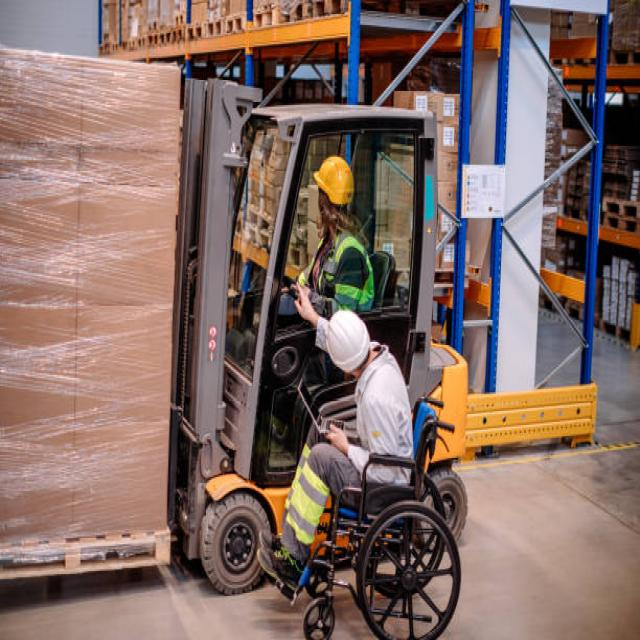Wooden-Pallets: (0, 523, 174, 583), (244, 0, 280, 31), (185, 20, 210, 37), (221, 17, 247, 33), (144, 32, 164, 46)
